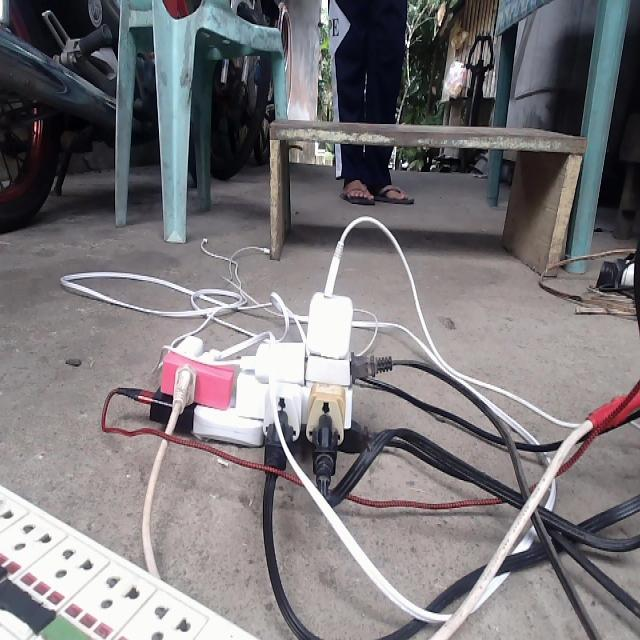-: (109, 237, 397, 492)
